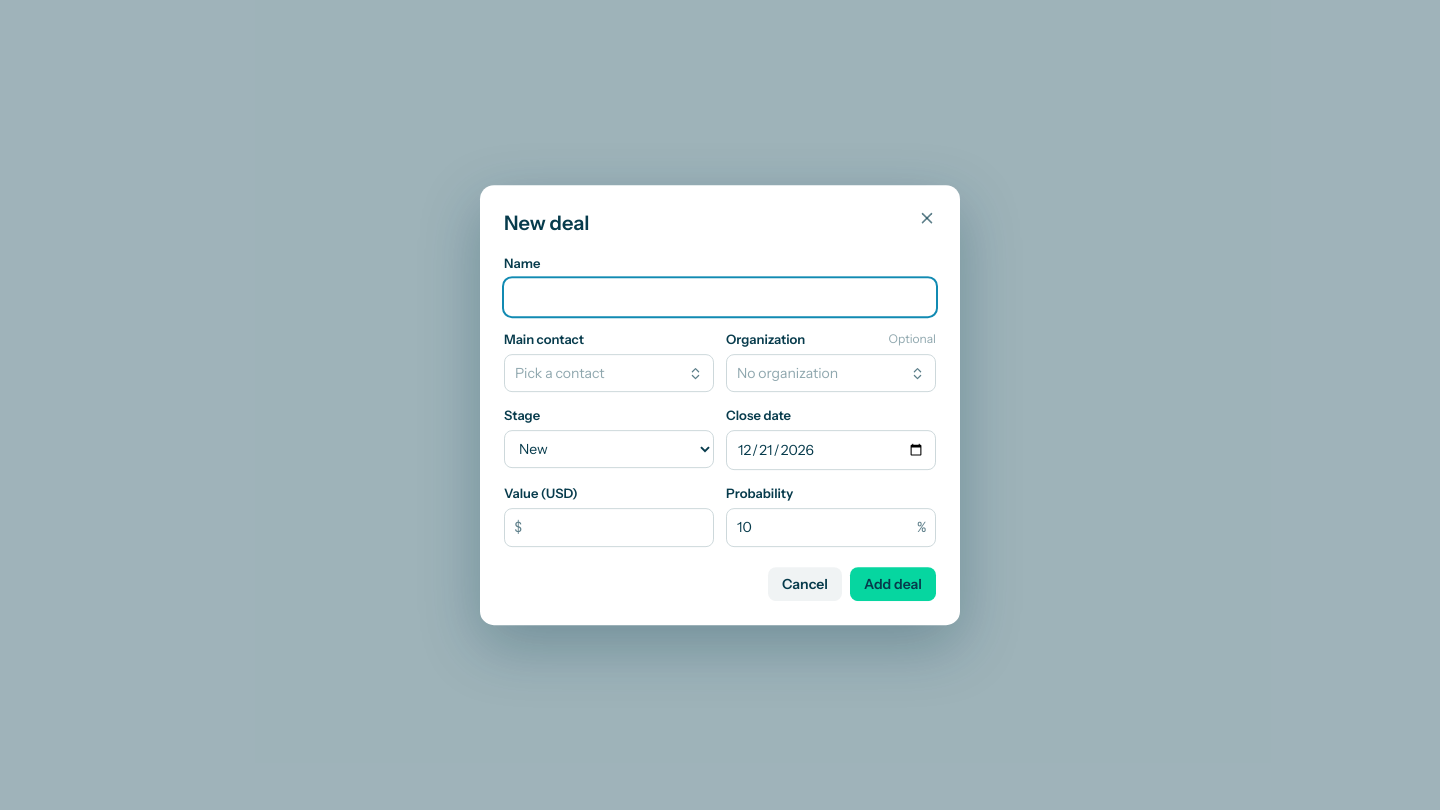
Test: DealForm › fills in today's date for Won or Lost, which can then be changed
expect the dialog is shown: met, box [480,185,960,625]
expect the date field labelled "Close date" holds "2026-12-21": met, box [726,430,936,471]
Select "Won" in the dropdown labelled "Stage": (609, 449) [504,430,714,468]
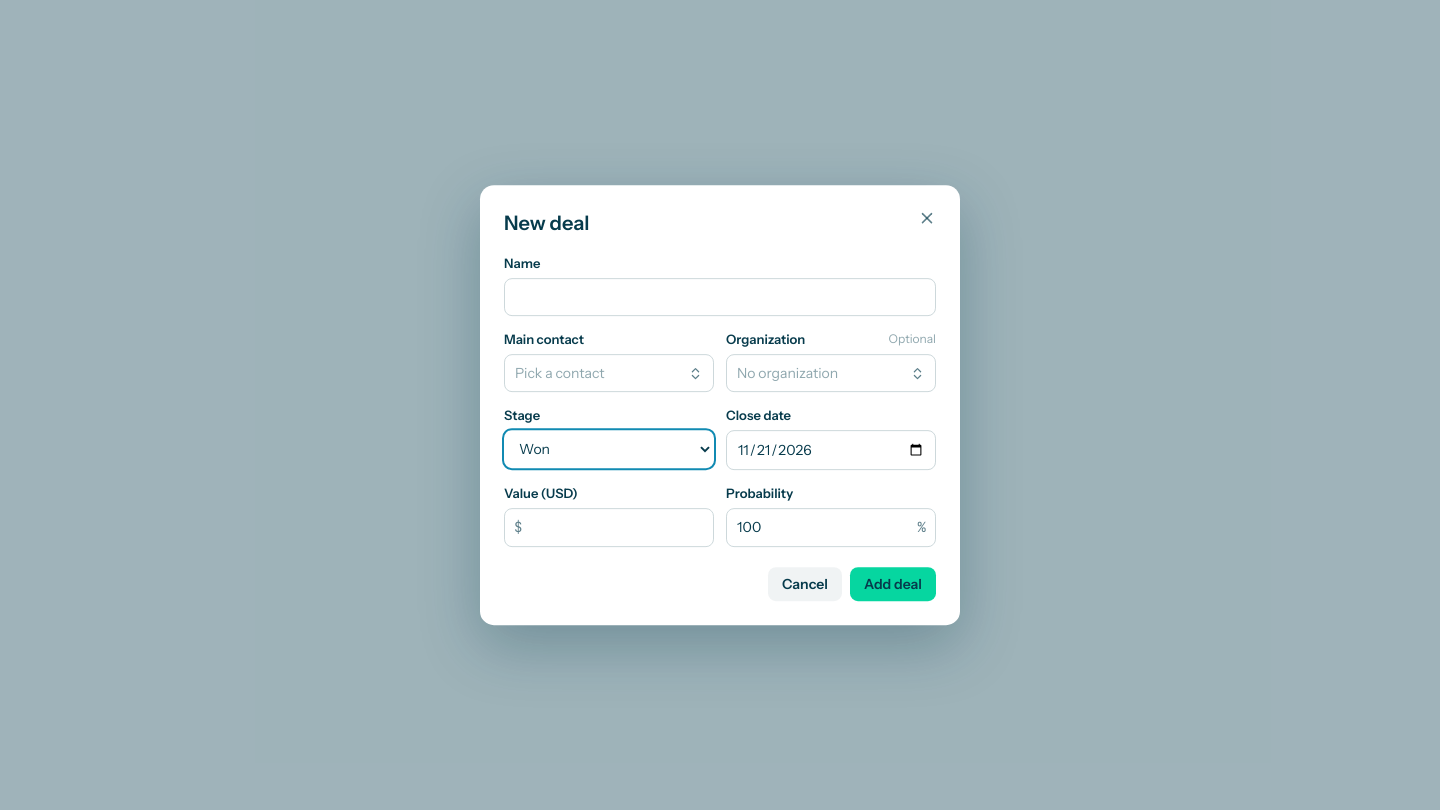
expect the field labelled "Probability" holds "100": met, box [726,508,936,547]
Select "Lost" in the dropdown labelled "Stage": (609, 449) [504,430,714,468]
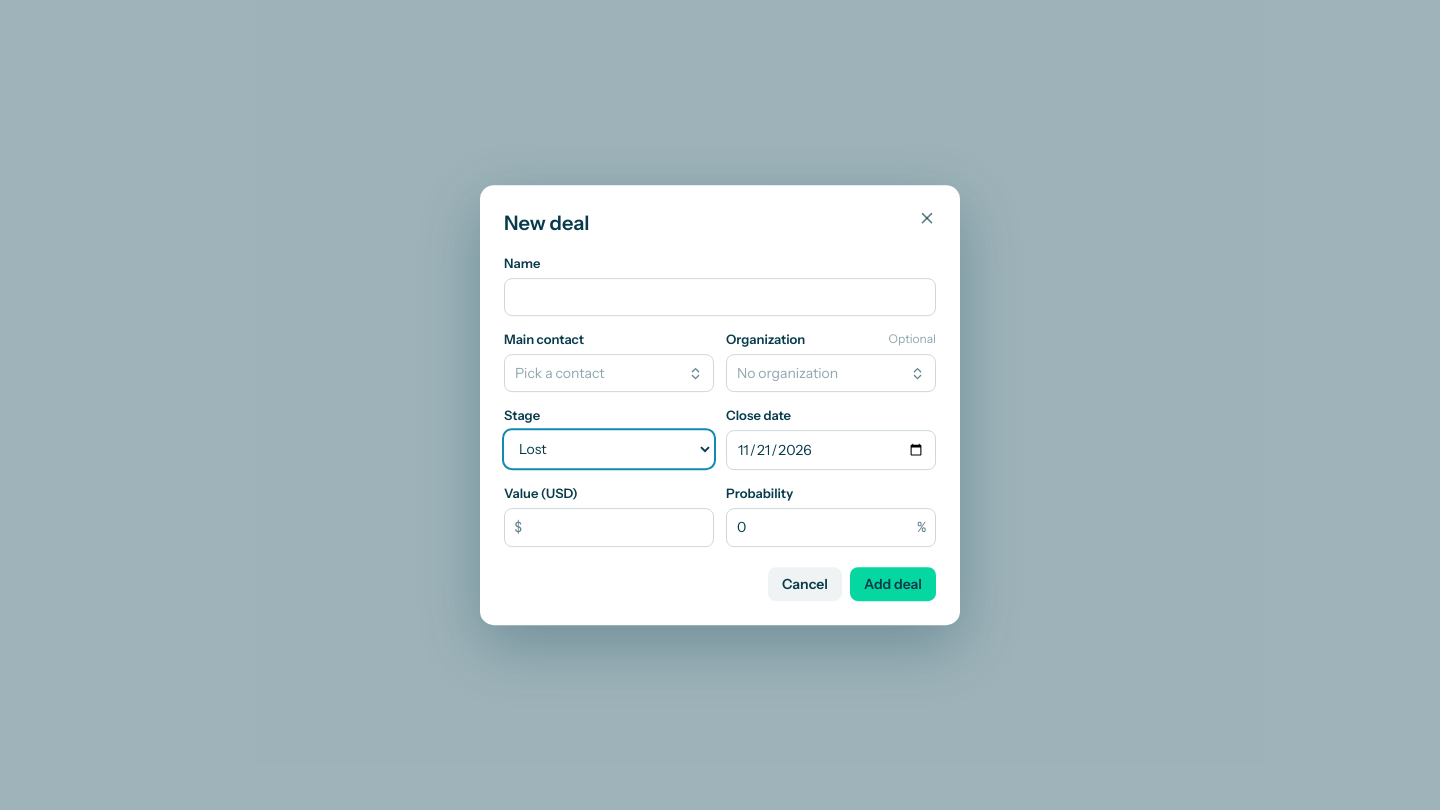
expect the field labelled "Probability" holds "0": met, box [726,508,936,547]
